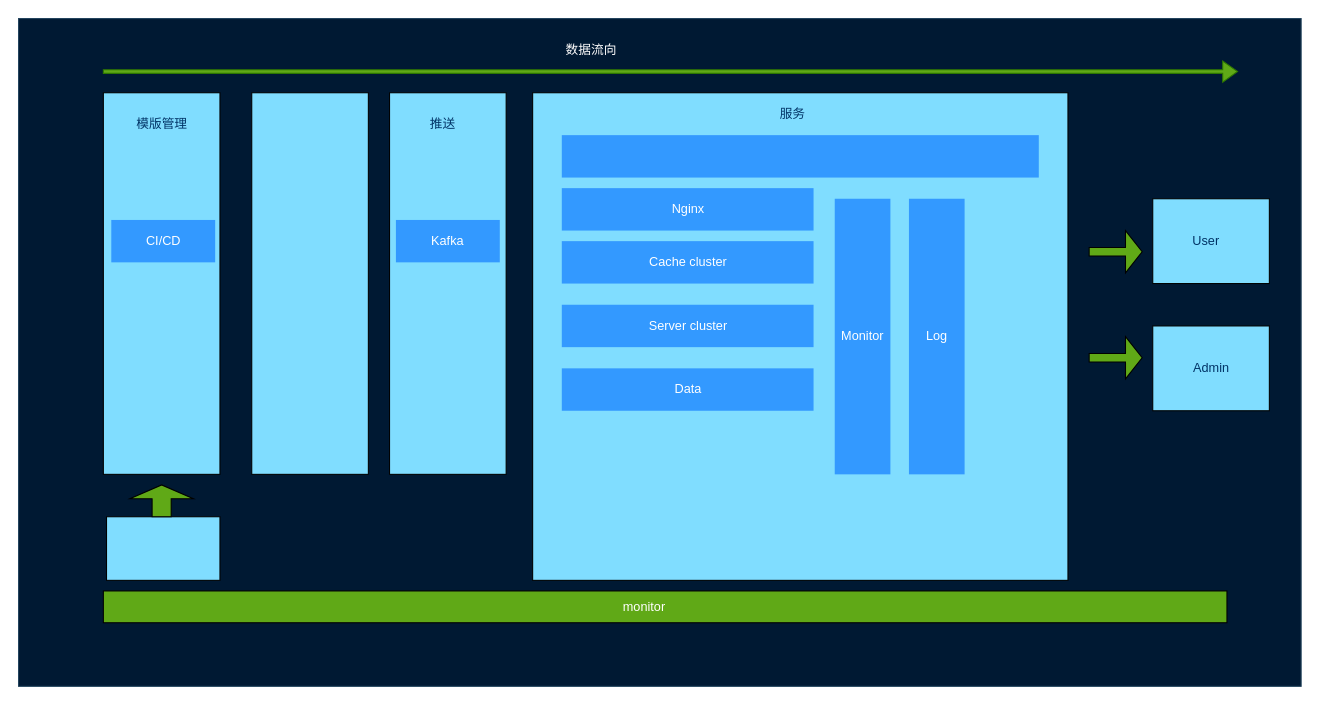
This 1320x705 diagram has some shape labels left out. Here are the shapes that lost their labels. From the top down, the centre of each, then its label:
At point 799,156: "Cdn".
At point 309,283: "预览".
At point 162,548: "Customization".
